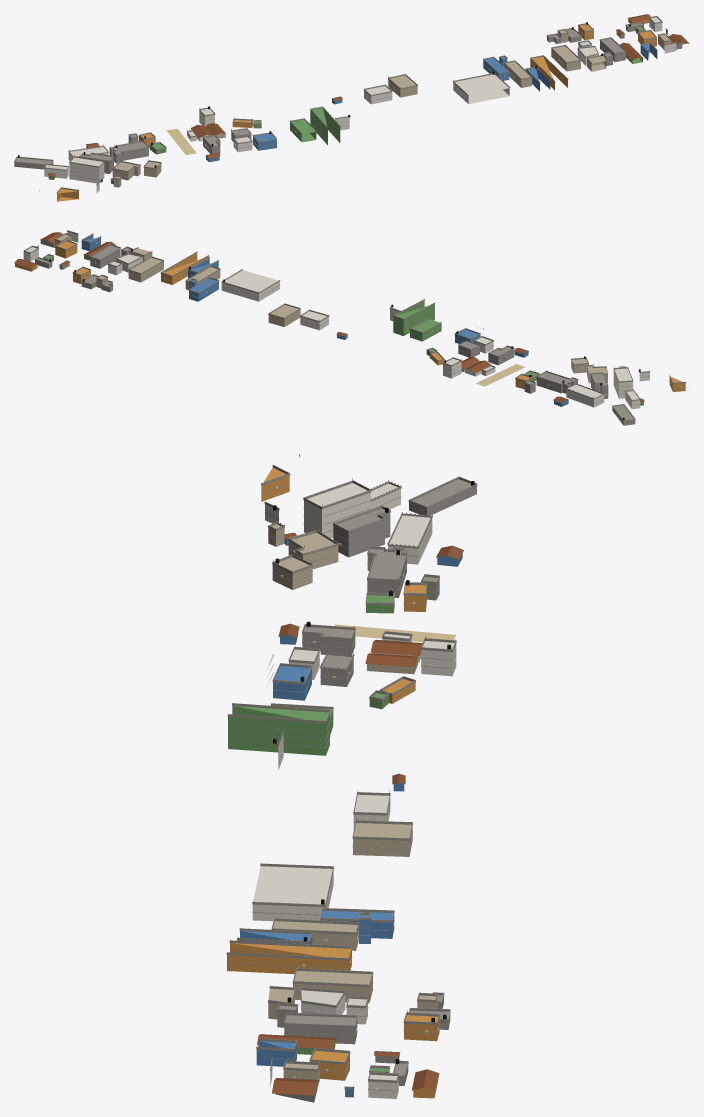
The model's file is zone_t-3_3.glb.
3 renders of one model, top to bottom at view 1: azimuth 30°, elevation 25°; view 2: azimuth 150°, elevation 25°; view 3: azimuth 270°, elevation 25°, orthographic. The views are drawn at different scales.
Parts seen in each view (by area): view 1: bld_peinture_blanc_t-3_3-col, parapet_t-3_3, bld_peinture_ecaillee_t-3_3-col, bld_beton_t-3_3-col, bld_peinture_ocre_t-3_3-col, bld_peinture_vert_t-3_3-col, bld_peinture_bleu_t-3_3-col, toit_tole_t-3_3, bandeau_t-3_3, route_tertiary_terre_t-3_3; view 2: bld_peinture_blanc_t-3_3-col, parapet_t-3_3, bld_beton_t-3_3-col, bld_peinture_ecaillee_t-3_3-col, bld_peinture_ocre_t-3_3-col, bld_peinture_vert_t-3_3-col, bld_peinture_bleu_t-3_3-col, toit_tole_t-3_3, bandeau_t-3_3, route_tertiary_terre_t-3_3; view 3: parapet_t-3_3, bld_peinture_blanc_t-3_3-col, bld_beton_t-3_3-col, bld_peinture_ecaillee_t-3_3-col, bld_peinture_ocre_t-3_3-col, bld_peinture_vert_t-3_3-col, bld_peinture_bleu_t-3_3-col, toit_tole_t-3_3, bandeau_t-3_3.
Boxes of the visible parts, x1,y1,x2,y2 form: bld_peinture_blanc_t-3_3-col: (44,17,676,193); parapet_t-3_3: (14,16,676,193); bld_peinture_ecaillee_t-3_3-col: (112,30,671,187); bld_beton_t-3_3-col: (14,23,682,173); bld_peinture_ocre_t-3_3-col: (57,18,656,201); bld_peinture_vert_t-3_3-col: (48,27,643,179); bld_peinture_bleu_t-3_3-col: (86,30,667,184); toit_tole_t-3_3: (47,14,689,180); bandeau_t-3_3: (44,22,675,197); route_tertiary_terre_t-3_3: (166,128,196,154); bld_peinture_blanc_t-3_3-col: (23,231,649,409); parapet_t-3_3: (23,230,689,421); bld_beton_t-3_3-col: (35,240,635,425); bld_peinture_ecaillee_t-3_3-col: (55,234,607,383); bld_peinture_ocre_t-3_3-col: (15,241,685,391); bld_peinture_vert_t-3_3-col: (45,255,643,405); bld_peinture_bleu_t-3_3-col: (38,235,568,406); toit_tole_t-3_3: (14,232,644,403); bandeau_t-3_3: (24,237,685,405); route_tertiary_terre_t-3_3: (476,364,524,386); parapet_t-3_3: (226,454,477,1089); bld_peinture_blanc_t-3_3-col: (252,483,456,1098); bld_beton_t-3_3-col: (275,479,476,1102); bld_peinture_ecaillee_t-3_3-col: (268,524,437,1086); bld_peinture_ocre_t-3_3-col: (227,467,439,1098); bld_peinture_vert_t-3_3-col: (228,595,394,1072); bld_peinture_bleu_t-3_3-col: (237,537,462,1097); toit_tole_t-3_3: (257,532,463,1095); bandeau_t-3_3: (227,483,456,1091).
Size of the model in its own units: 502 by 13.9 by 84.45.
